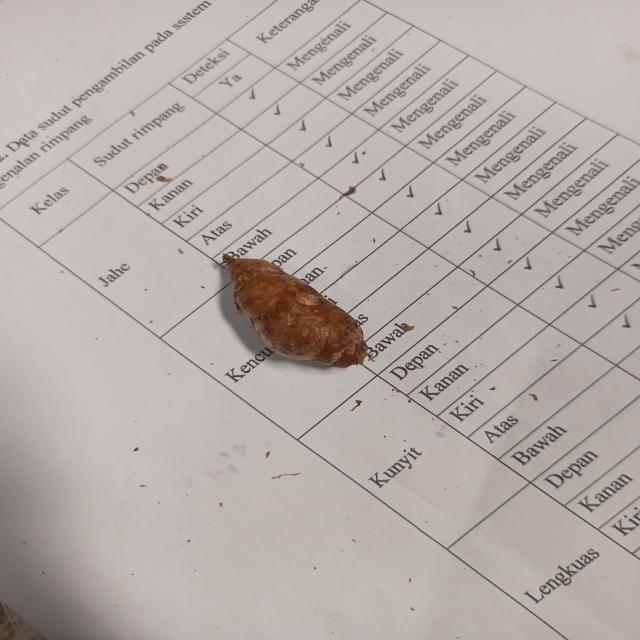ginger: (223, 251, 364, 369)
